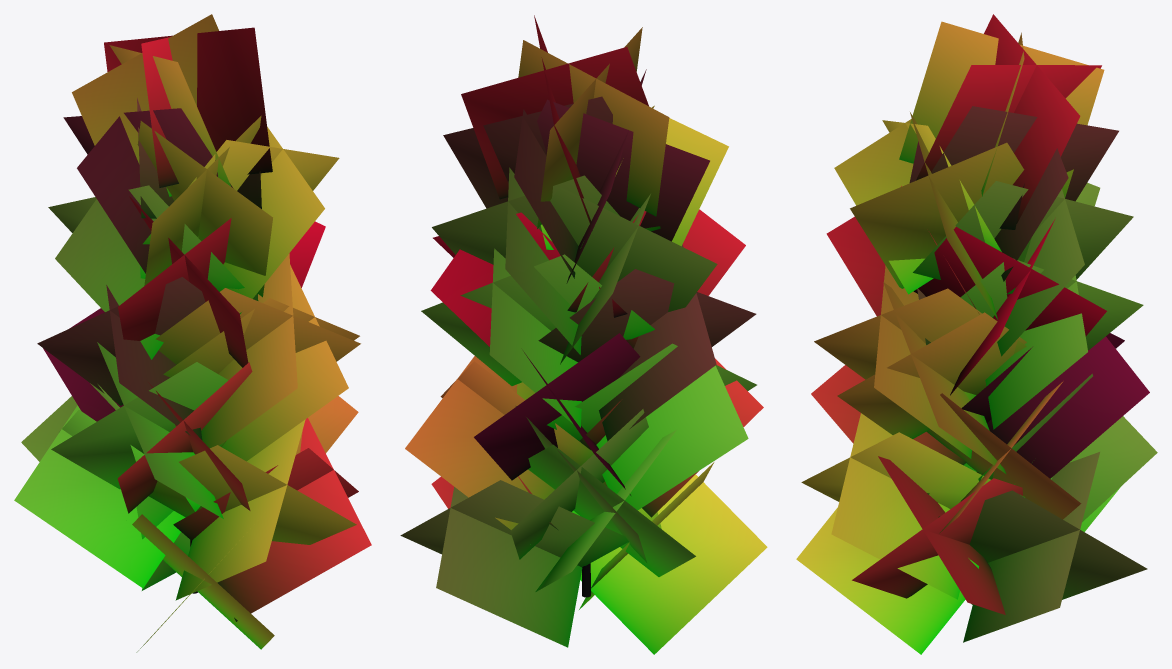
The model's file is Tree_4.fbx.
3 views of the same model, side by side, from view 1: azimuth 30°, elevation 25°; view 2: azimuth 150°, elevation 25°; view 3: azimuth 270°, elevation 25° (orthographic).
Visible parts, largest first — view 1: Tree_4; view 2: Tree_4; view 3: Tree_4.
Boxes of the visible parts, x1,y1,x2,y2 form: Tree_4: (14,14,371,652); Tree_4: (400,15,767,654); Tree_4: (796,14,1157,654).
Bounding box in the file's own units: 422 × 782 × 427.
